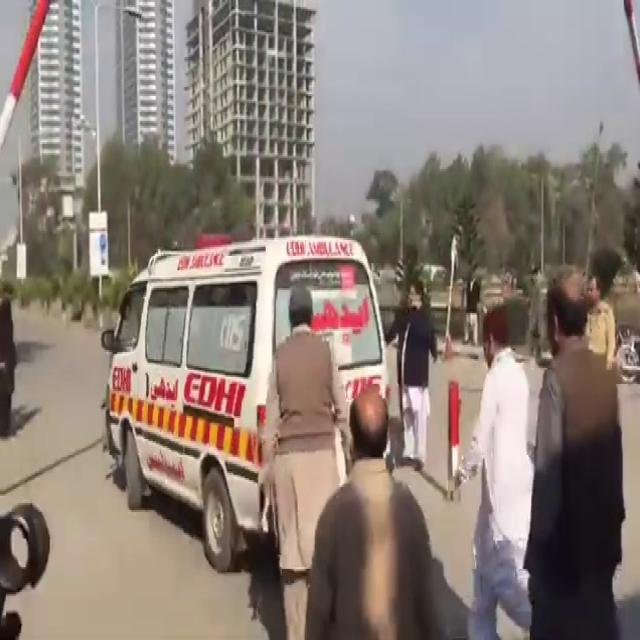ambulance: (101, 204, 427, 547)
